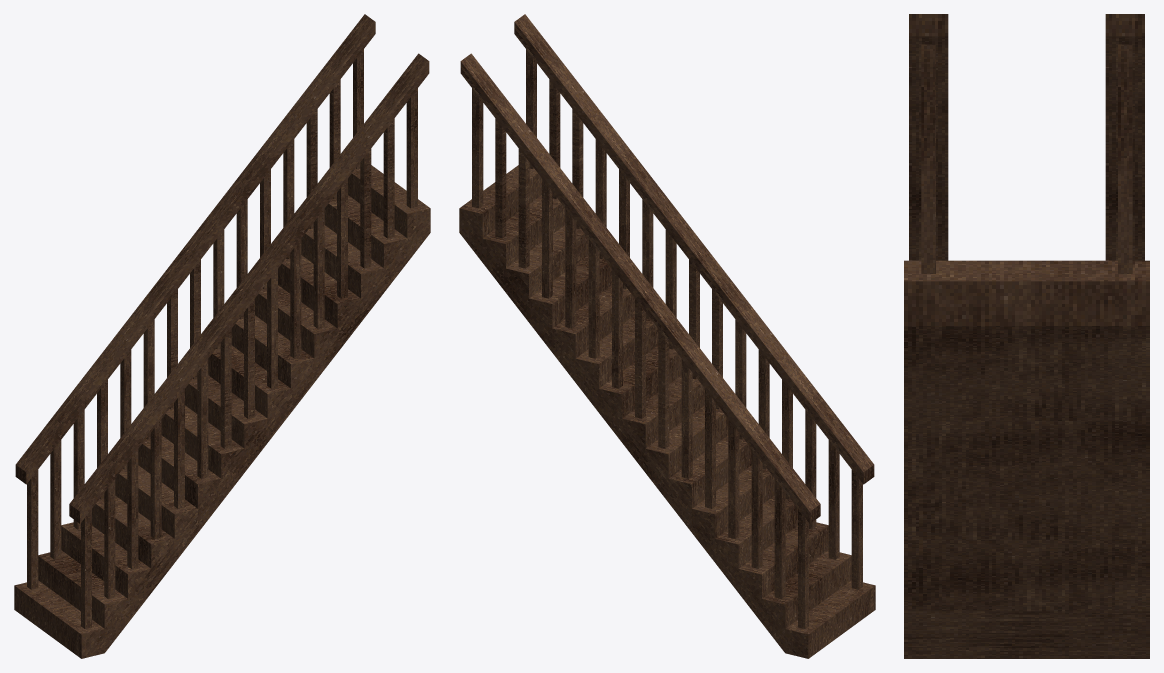
File: stair_big_01.glb
The picture shows the model from 3 angles, left to right: view 1: azimuth 30°, elevation 25°; view 2: azimuth 150°, elevation 25°; view 3: azimuth 270°, elevation 25°; orthographic projection. The views are drawn at different scales.
Visible parts, largest first — view 1: stair_big_012, railing_stair_03_R, railing_stair_03_L; view 2: stair_big_012, railing_stair_03_L, railing_stair_03_R; view 3: stair_big_012, railing_stair_03_L, railing_stair_03_R.
Boxes of the visible parts, left/top/right/bottom form: stair_big_012: left=14, top=165, right=430, bottom=658; railing_stair_03_R: left=69, top=53, right=429, bottom=628; railing_stair_03_L: left=15, top=14, right=375, bottom=589; stair_big_012: left=459, top=165, right=875, bottom=658; railing_stair_03_L: left=460, top=53, right=820, bottom=628; railing_stair_03_R: left=514, top=14, right=874, bottom=589; stair_big_012: left=904, top=260, right=1149, bottom=658; railing_stair_03_L: left=1105, top=14, right=1144, bottom=273; railing_stair_03_R: left=909, top=14, right=948, bottom=273.
Bounding box in the file's own units: 3 × 4.2 × 1.
Materials: 3 (3 with a texture image).
